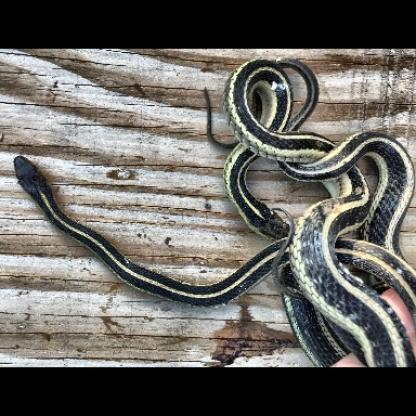Snake: (6, 55, 410, 346)
